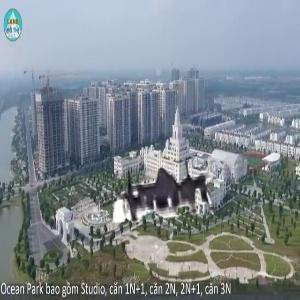drone: (101, 130, 238, 267)
